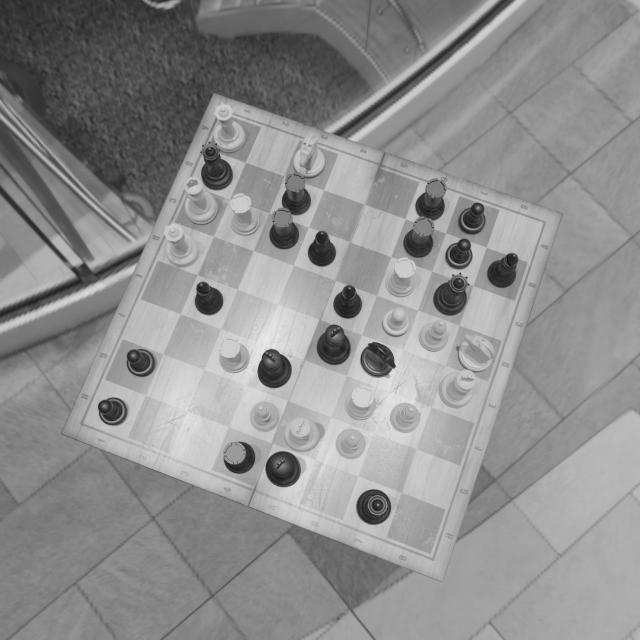chessboard: (81, 111, 544, 558)
